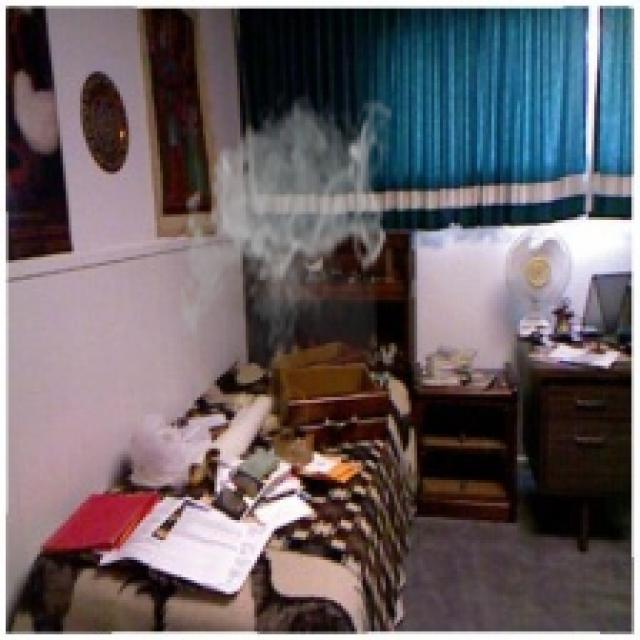smoke: (172, 92, 392, 368)
